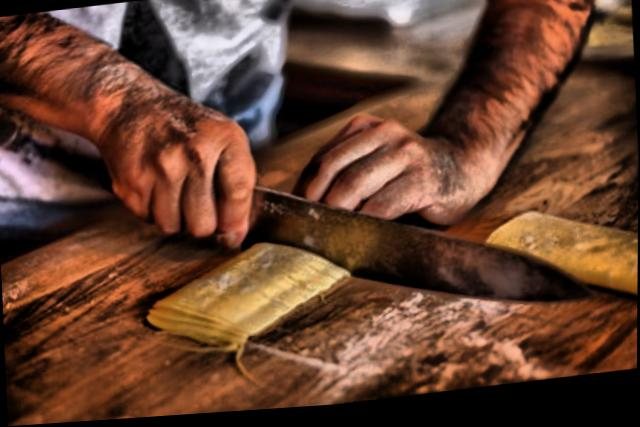knife: (117, 131, 608, 363)
